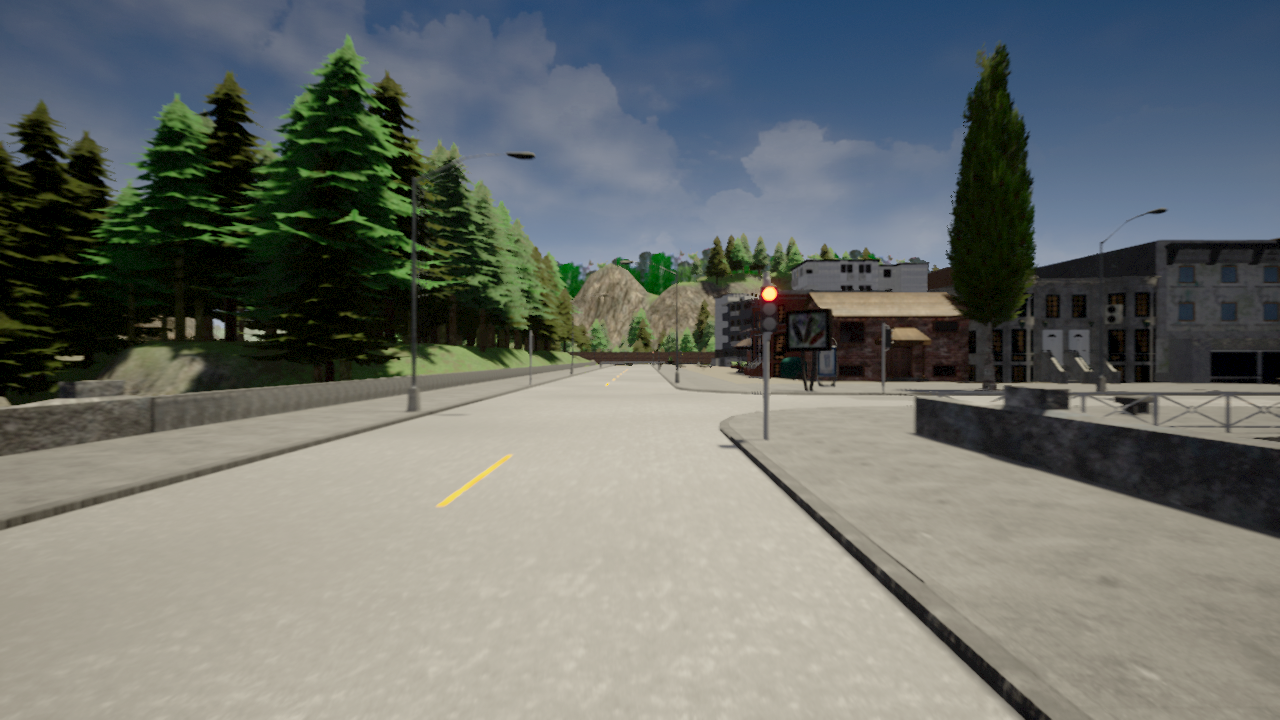red: (759, 285, 779, 334)
